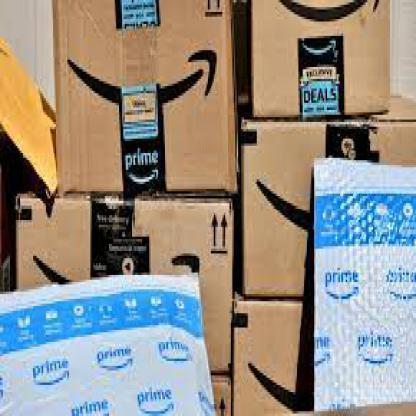package: (18, 194, 233, 372), (52, 0, 239, 194), (241, 115, 415, 304), (233, 297, 415, 414), (250, 0, 392, 122)
